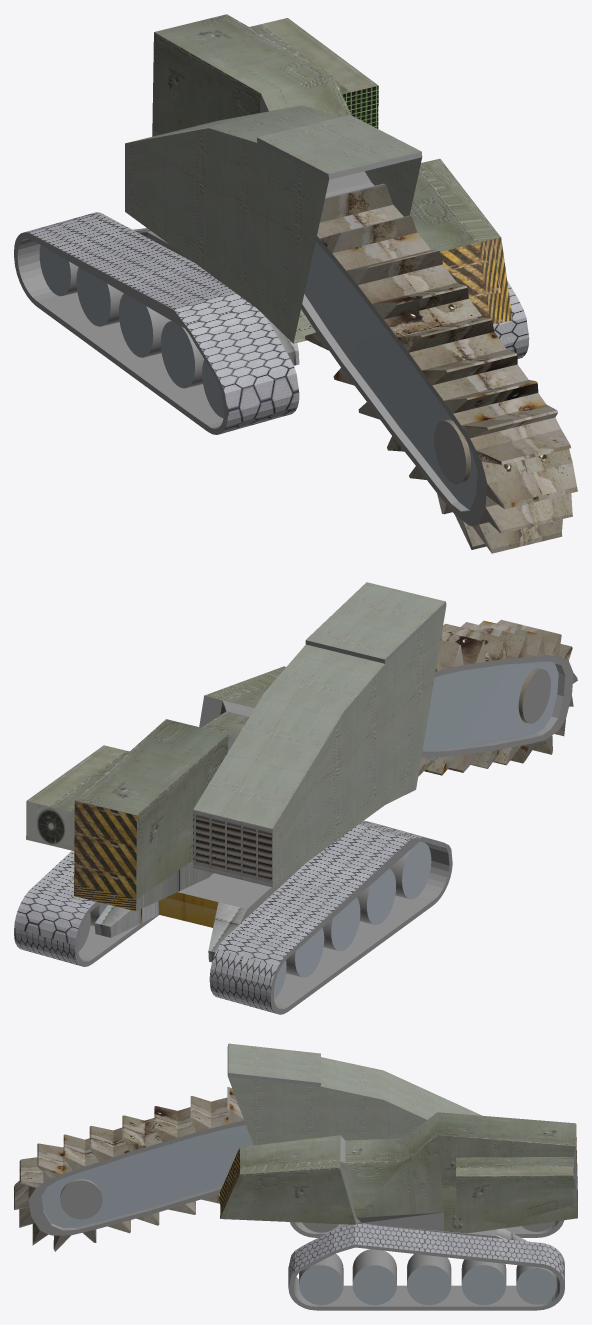
File: bulldozer_null_v2.FBX
The picture shows the model from 3 angles, top to bottom: view 1: azimuth 30°, elevation 25°; view 2: azimuth 150°, elevation 25°; view 3: azimuth 270°, elevation 25°; orthographic projection. The views are drawn at different scales.
Parts seen in each view (by area): view 1: Box02; view 2: Box02; view 3: Box02.
Boxes of the visible parts, box(x1,y1,x2,y2) form: Box02: box(14, 14, 577, 553); Box02: box(14, 582, 577, 1014); Box02: box(14, 1043, 577, 1310).
Size of the model in its own units: 65.01 by 59.93 by 161.
